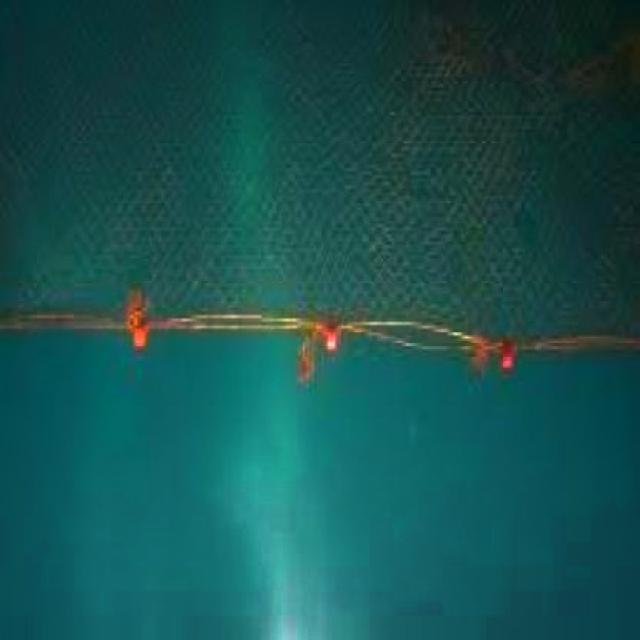net: (1, 2, 640, 355)
